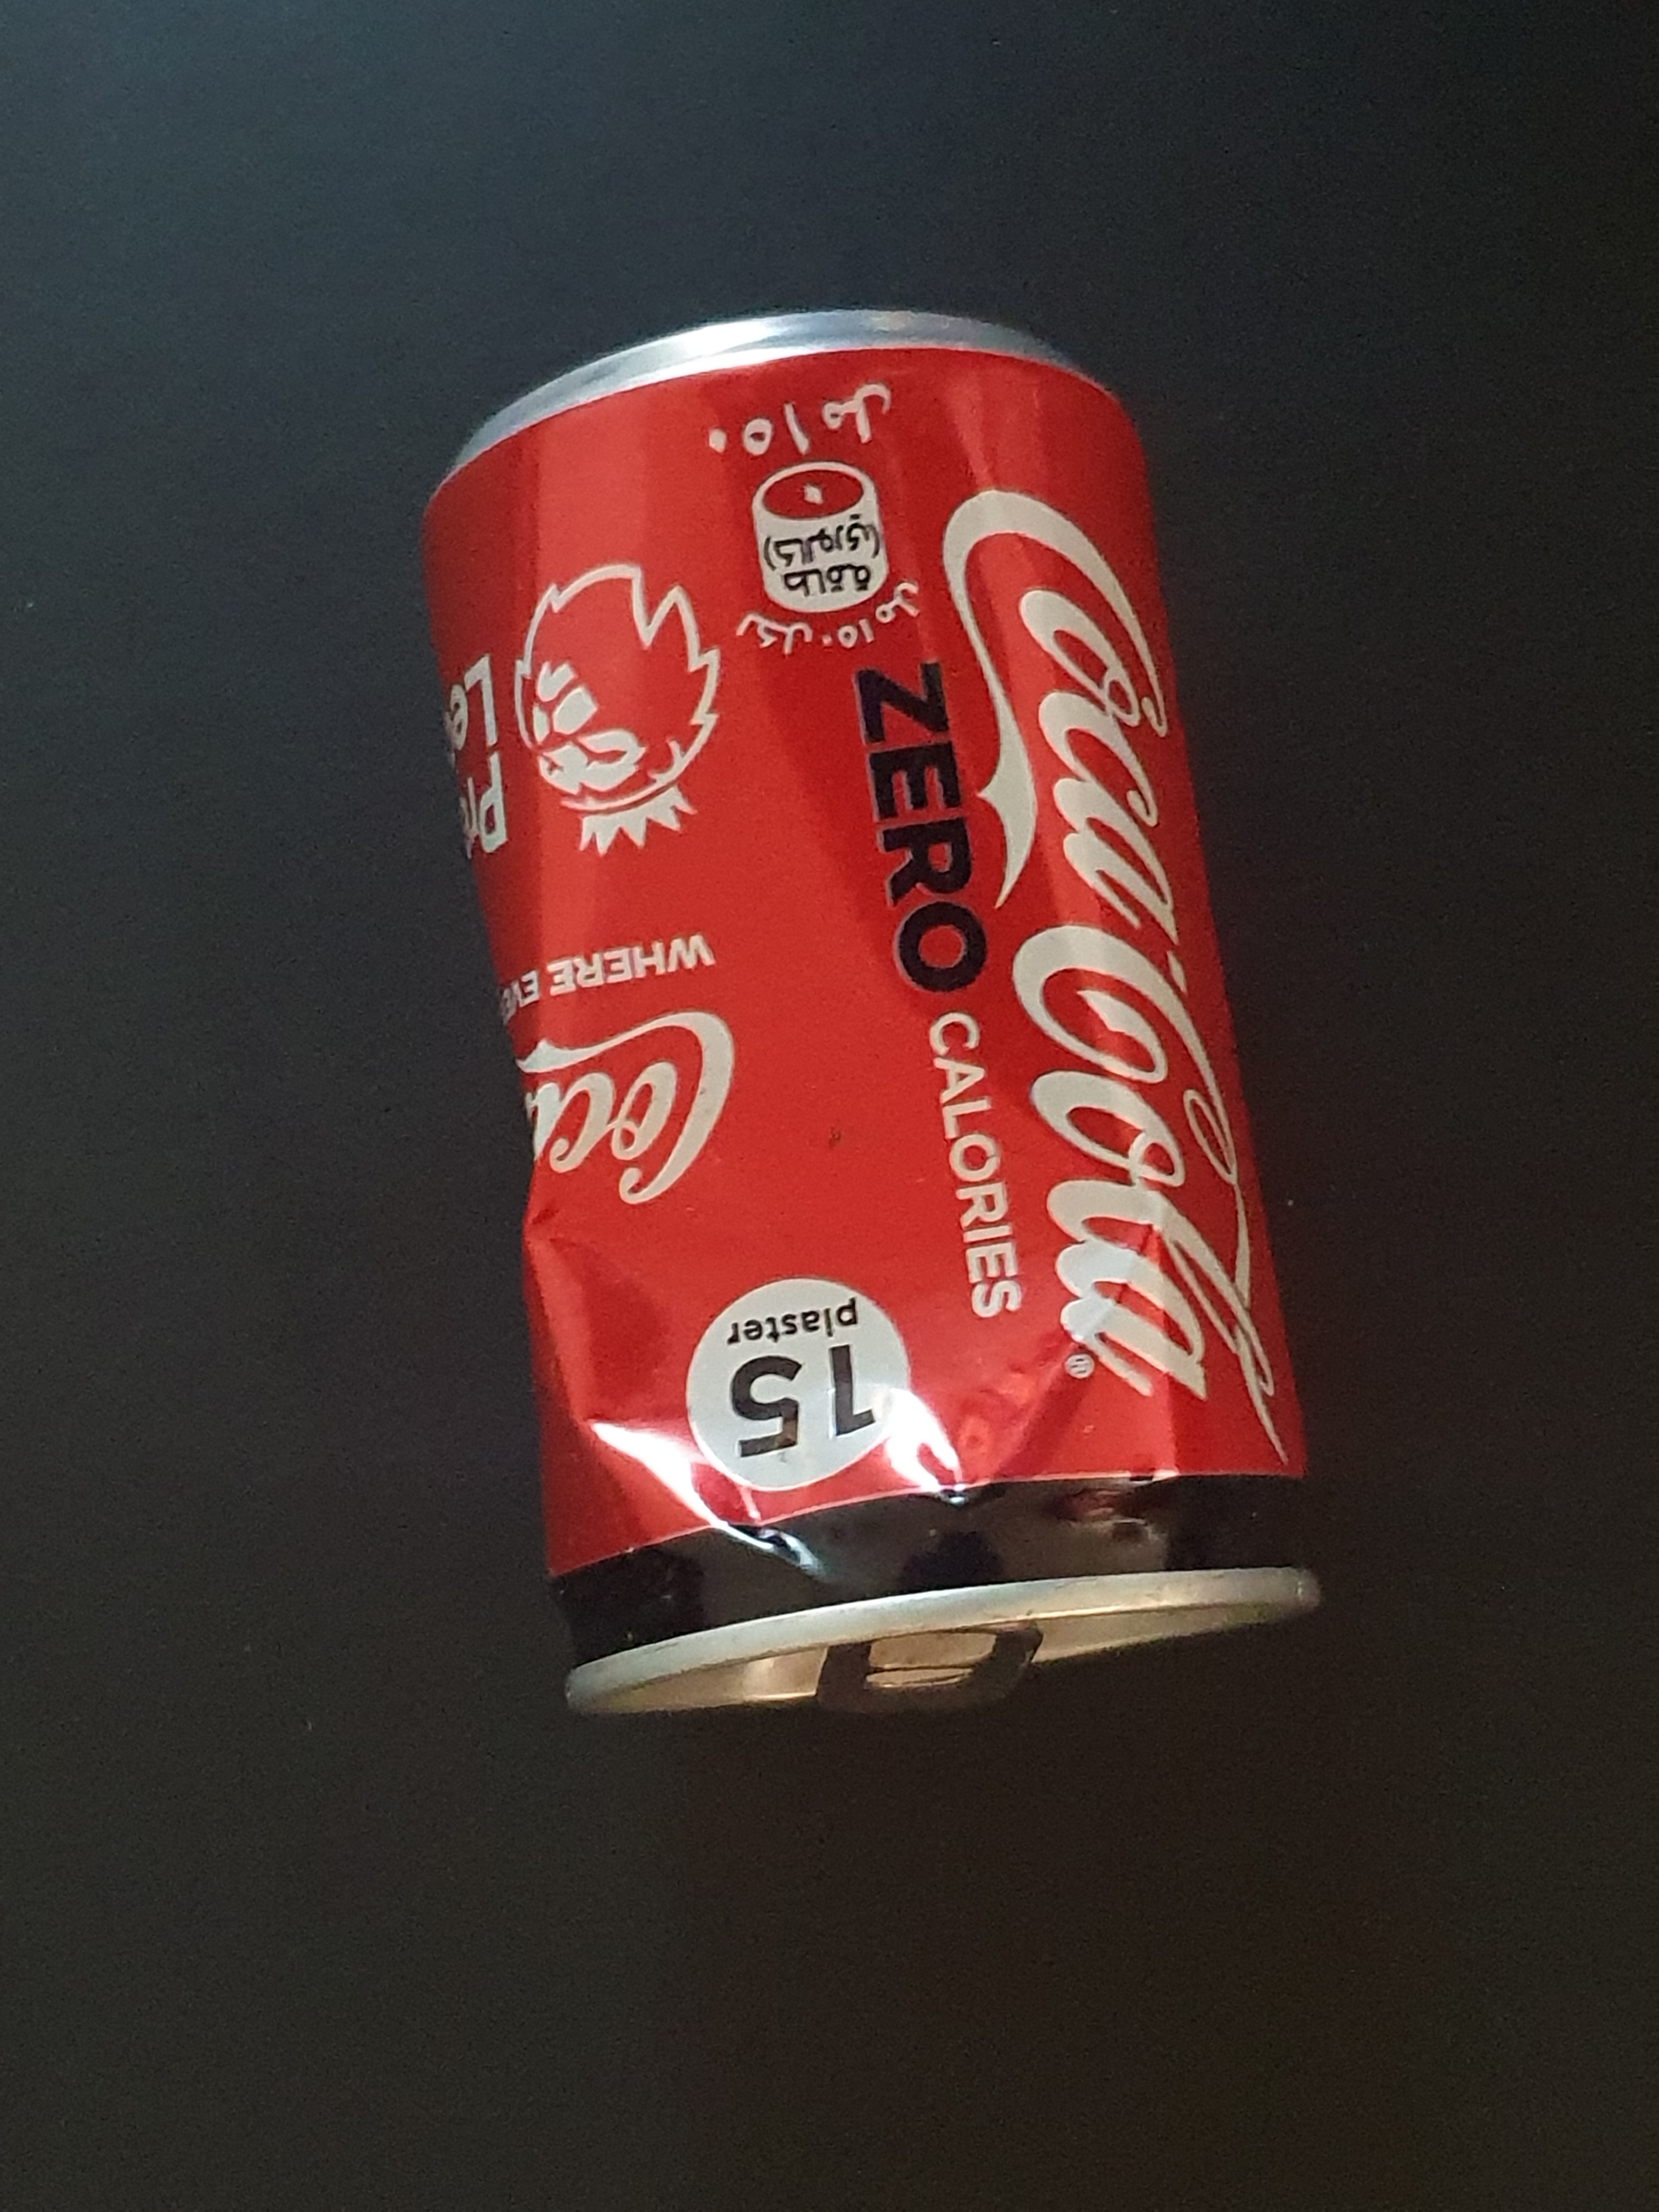metal: (338, 223, 1380, 1771)
